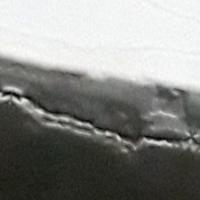crack: (0, 72, 199, 191)
